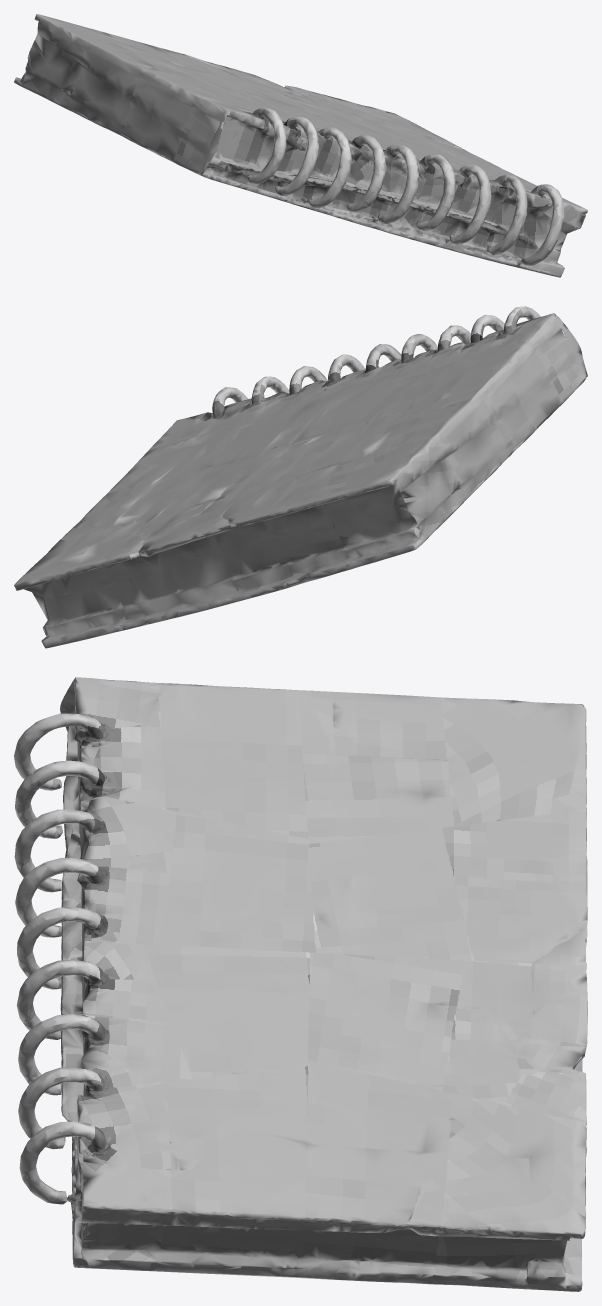
The model's file is m_notebook.glb.
3 views of the same model, one above another, from view 1: azimuth 30°, elevation 25°; view 2: azimuth 150°, elevation 25°; view 3: azimuth 270°, elevation 25° (orthographic). The views are drawn at different scales.
Visible parts, largest first — view 1: tripo_node_fe623754-a48f-47e8-bd67-de67d36e00ff; view 2: tripo_node_fe623754-a48f-47e8-bd67-de67d36e00ff; view 3: tripo_node_fe623754-a48f-47e8-bd67-de67d36e00ff.
Boxes of the visible parts, left/top/right/bottom form: tripo_node_fe623754-a48f-47e8-bd67-de67d36e00ff: left=14, top=14, right=587, bottom=277; tripo_node_fe623754-a48f-47e8-bd67-de67d36e00ff: left=14, top=306, right=587, bottom=648; tripo_node_fe623754-a48f-47e8-bd67-de67d36e00ff: left=14, top=677, right=587, bottom=1291.
Size of the model in its own units: 0.9943 by 0.6408 by 0.8494.
1 material, 1 textured.
